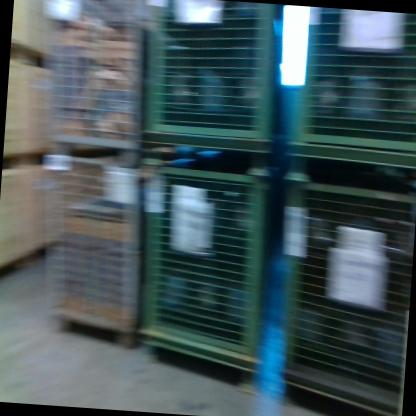stillage: (124, 134, 284, 397), (267, 167, 416, 416), (136, 0, 297, 168), (28, 139, 149, 354), (282, 7, 416, 194), (30, 0, 161, 159)
